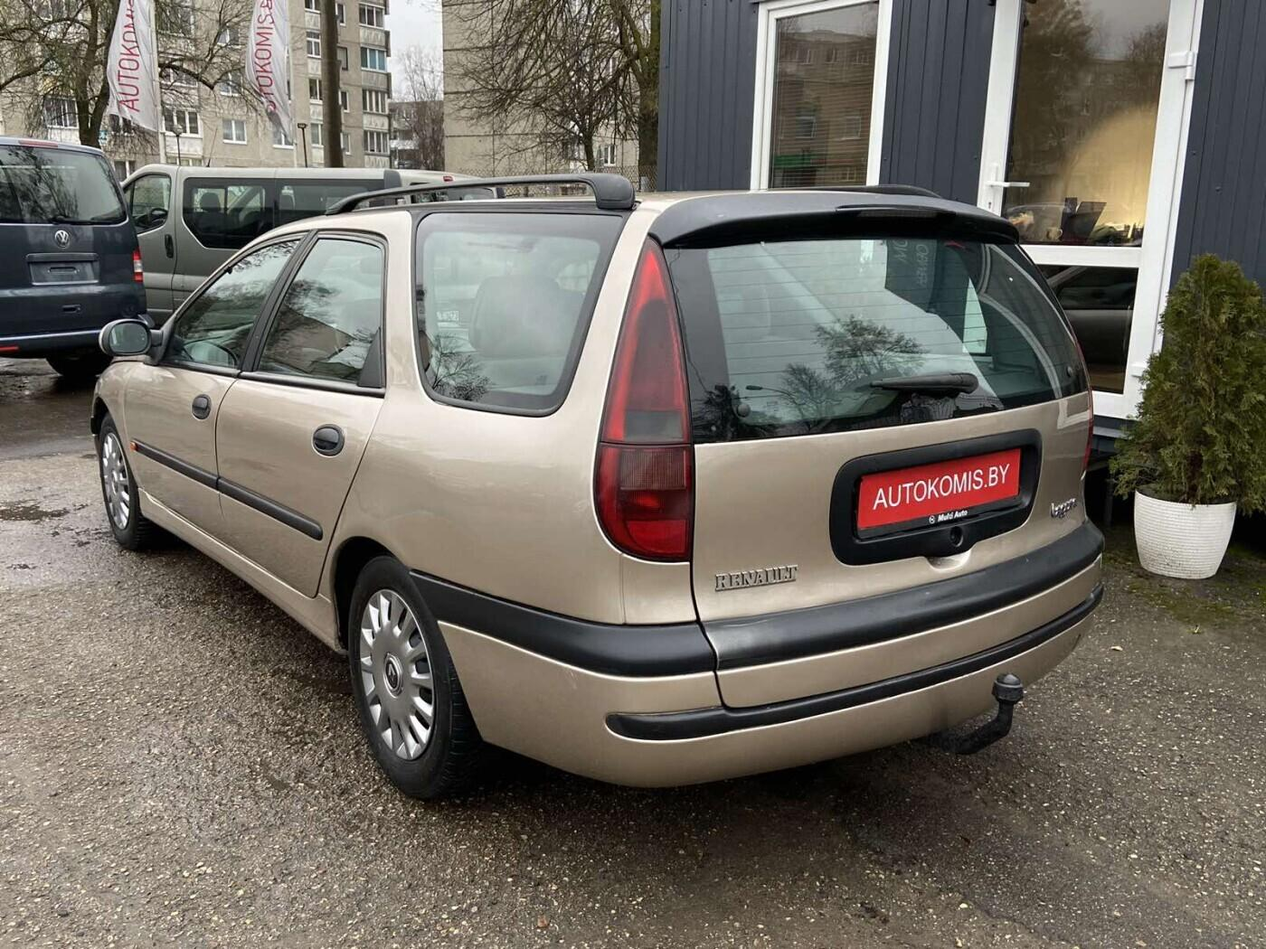Laguna_1998-2001: (84, 182, 1116, 819)
